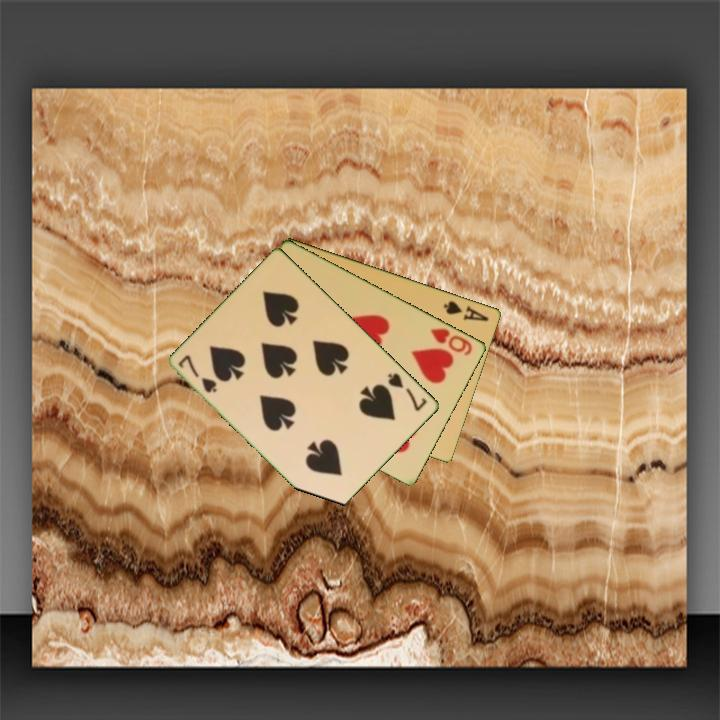6h: (427, 324, 476, 358)
7s: (385, 369, 430, 414), (175, 351, 220, 396)
As: (440, 297, 492, 324)
